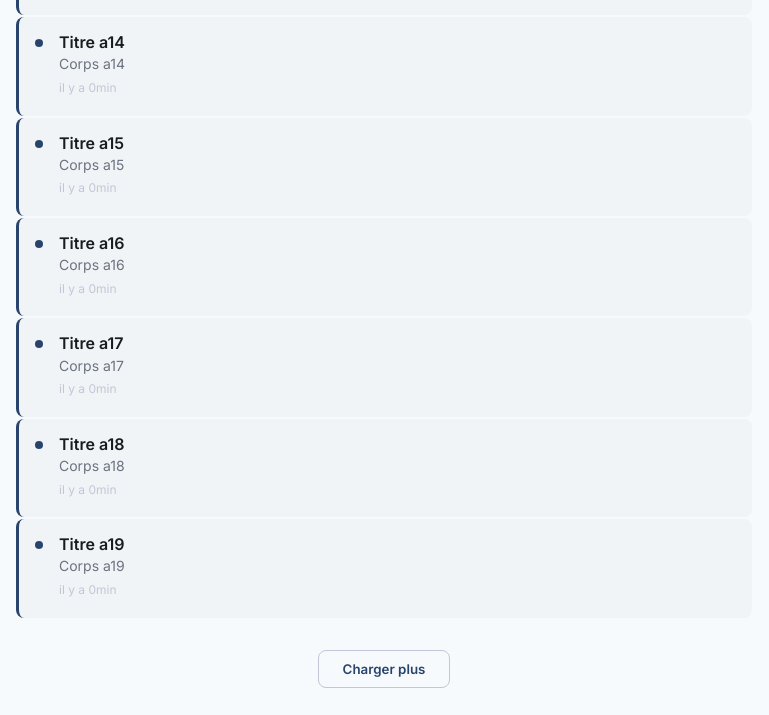
Notifications › propose « Charger plus » seulement avec une page pleine (20) et ajoute la page suivante
(page scrolled)
Click the button "Charger plus": (384, 668) [318, 650, 450, 688]
(page scrolled)
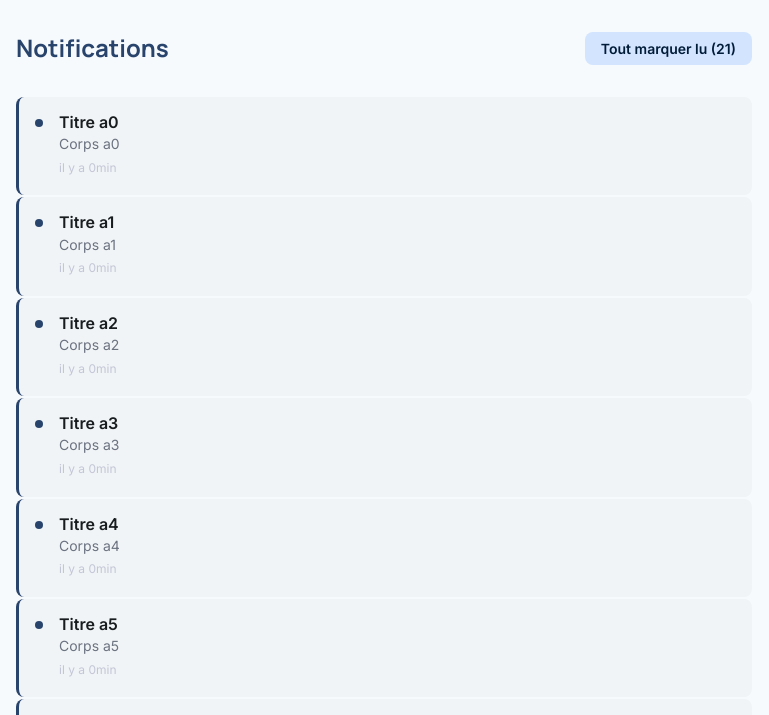
Expected: the heading "Titre a0" is shown, [59, 113, 120, 132]
Expected: the button "Charger plus" is gone
